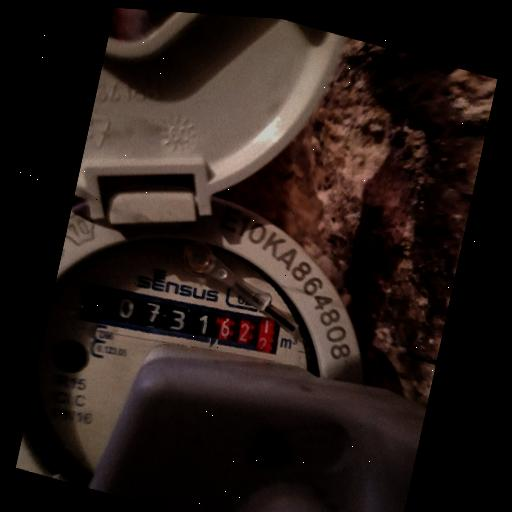0: (108, 291, 142, 327), (84, 285, 116, 322)
1: (253, 314, 283, 356), (186, 306, 219, 341)
2: (233, 315, 261, 347)
3: (161, 302, 195, 338)
6: (212, 311, 240, 343)
7: (135, 295, 169, 332)
border_water_meter_number: (76, 260, 288, 376)
